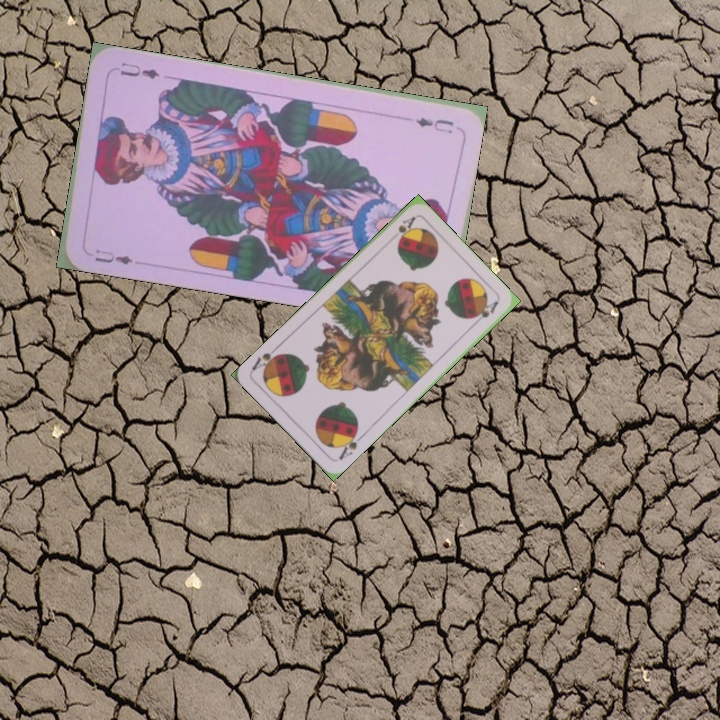EU: (90, 245, 136, 267), (411, 113, 456, 135)
SA: (334, 426, 366, 463), (393, 212, 418, 245)
